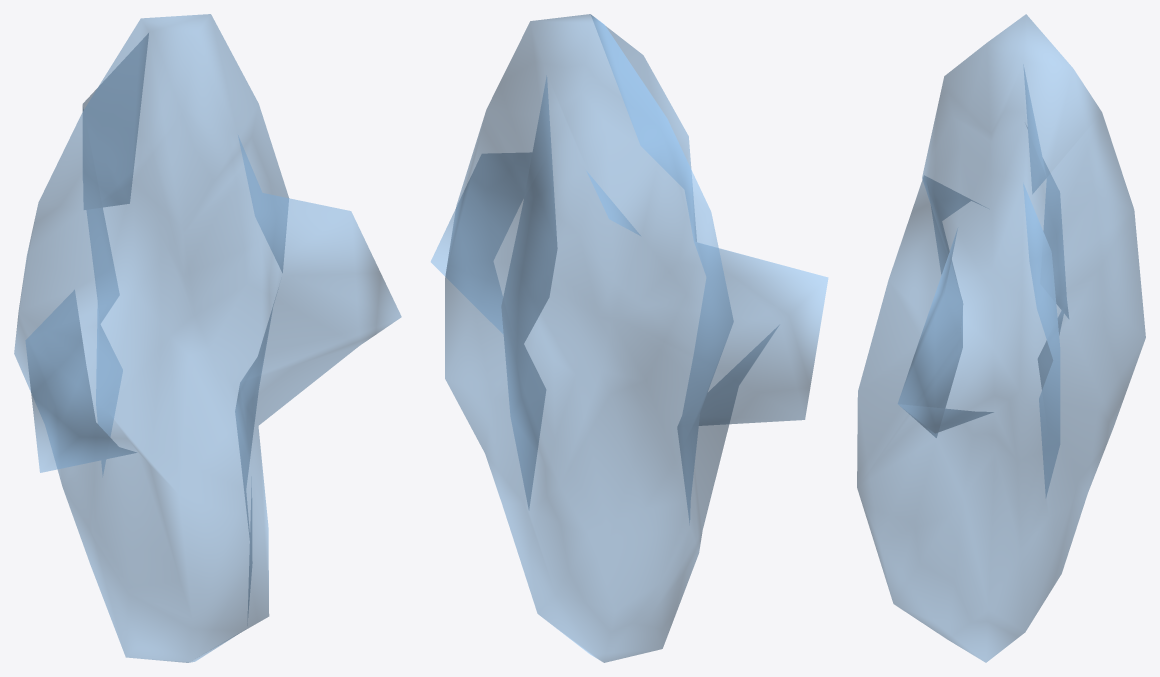
Rendered from mplantation_shield.gltf.
The picture shows the model from 3 angles, left to right: view 1: azimuth 30°, elevation 25°; view 2: azimuth 150°, elevation 25°; view 3: azimuth 270°, elevation 25°; orthographic projection. The views are drawn at different scales.
Parts seen in each view (by area): view 1: mplantation.shield; view 2: mplantation.shield; view 3: mplantation.shield.
Part boxes in pixels (x1,y1,x2,y2): mplantation.shield: [14, 14, 401, 662]; mplantation.shield: [431, 14, 828, 662]; mplantation.shield: [857, 14, 1145, 662].
Size of the model in its own units: 34.04 by 54.21 by 22.45.
